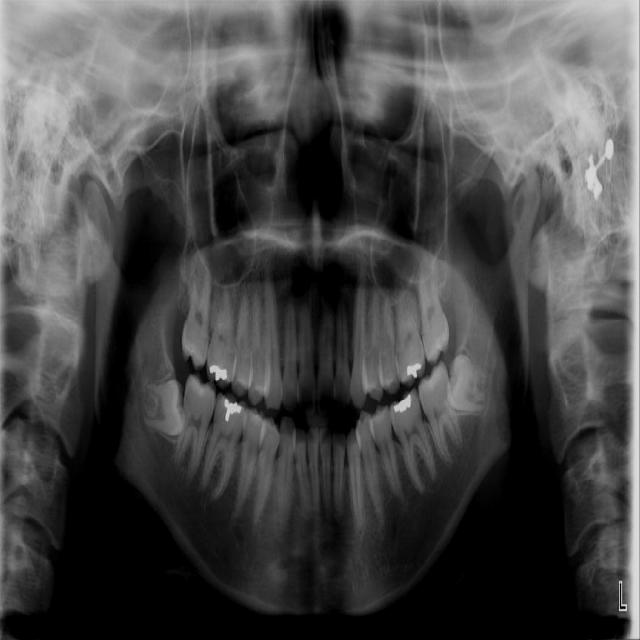Filling: (390, 392, 414, 416), (206, 362, 229, 384), (222, 400, 243, 421), (406, 363, 420, 379)
impacted tooth: (449, 357, 498, 410), (140, 381, 188, 433)
